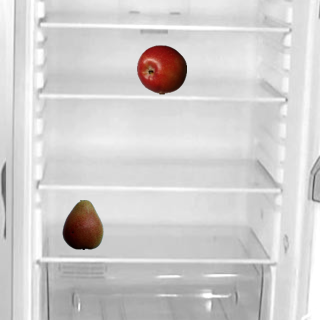Apple Braeburn: (136, 44, 186, 94)
Pear Forelle: (57, 199, 107, 249)
